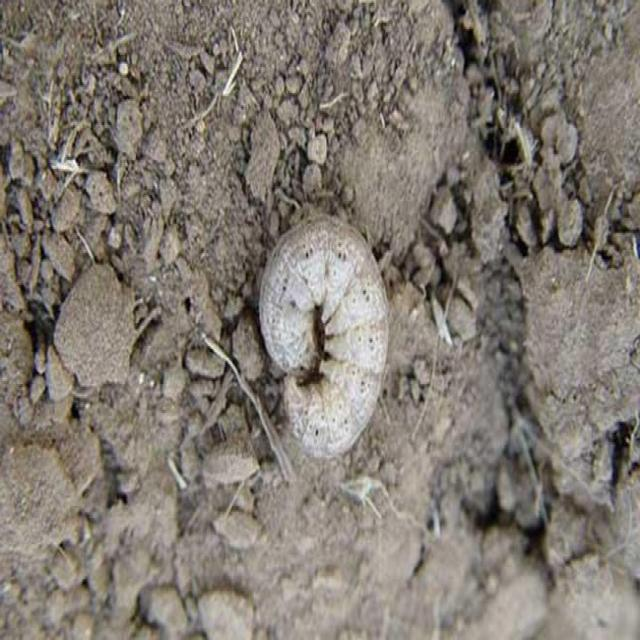black cutworm: (247, 210, 395, 472)
